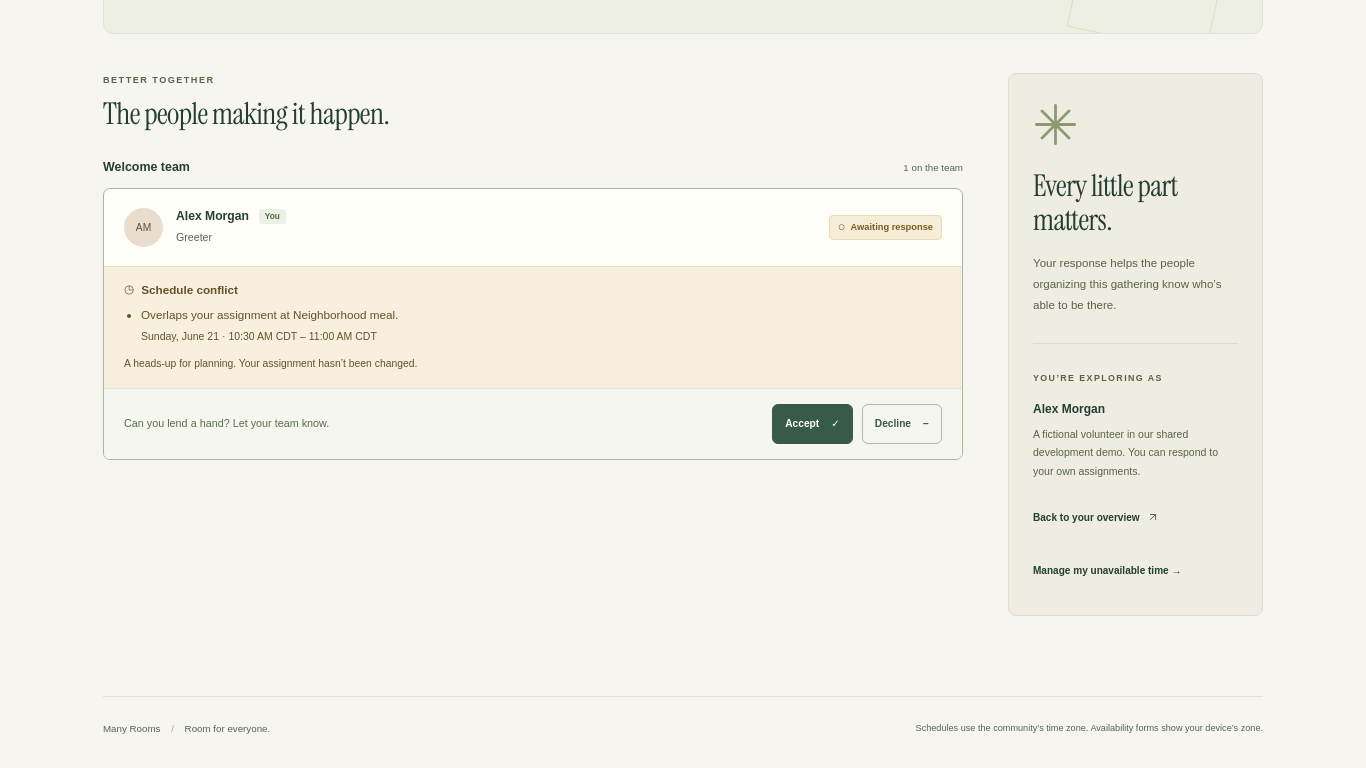
Scenario: server-provided conflicts › removes resolved conflicts using the server response after a decline
(page scrolled)
Check: the text "Overlaps your assignment at Neighborhood meal." is shown, box [141,308,398,321]
Step 1. Click the button "Decline −" → x=902, y=424, box [862,404,942,444]
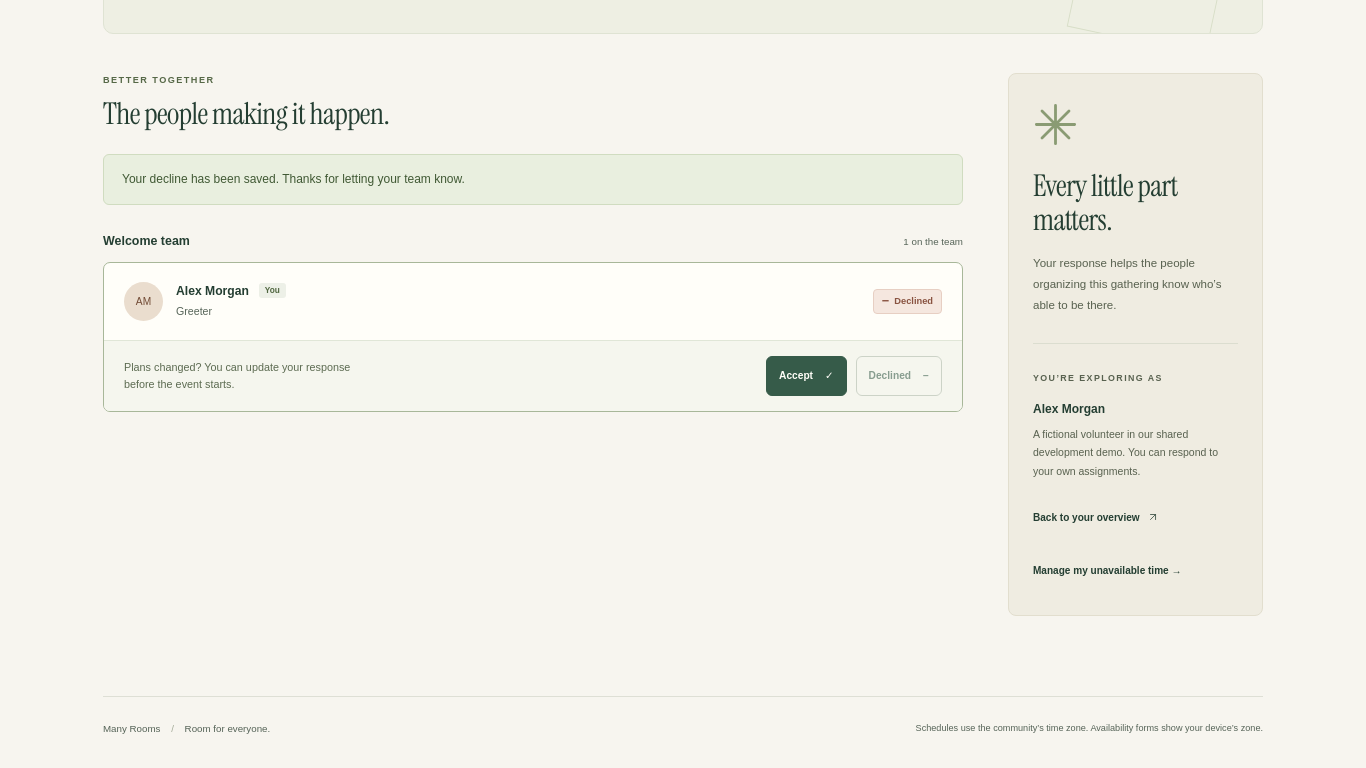
Check: the element with test id "schedule-conflict" is gone
